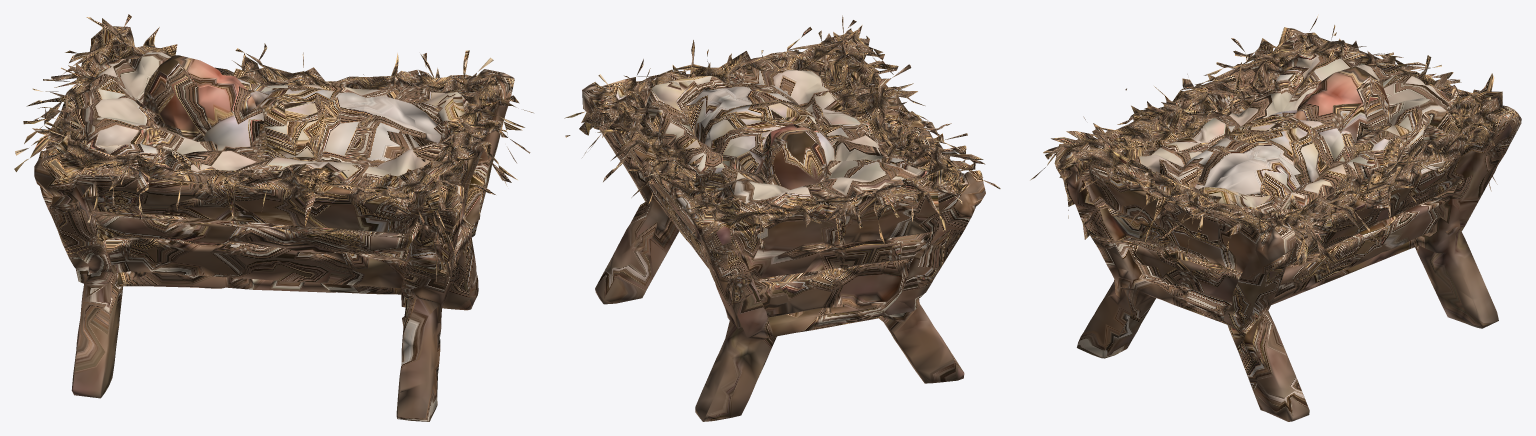
The model's file is jesus-manger-tripo.glb.
3 renders of one model, left to right at view 1: azimuth 30°, elevation 25°; view 2: azimuth 150°, elevation 25°; view 3: azimuth 270°, elevation 25°, orthographic. The views are drawn at different scales.
Visible parts, largest first — view 1: tripo_node_997ed375-363c-4c88-8b6a-e045f2e40191; view 2: tripo_node_997ed375-363c-4c88-8b6a-e045f2e40191; view 3: tripo_node_997ed375-363c-4c88-8b6a-e045f2e40191.
Boxes of the visible parts, x1,y1,x2,y2 form: tripo_node_997ed375-363c-4c88-8b6a-e045f2e40191: (14, 14, 533, 421); tripo_node_997ed375-363c-4c88-8b6a-e045f2e40191: (564, 15, 1000, 421); tripo_node_997ed375-363c-4c88-8b6a-e045f2e40191: (1030, 14, 1521, 421).
Bounding box in the file's own units: 1.28 × 0.716 × 1.32.
1 material, 1 textured.
